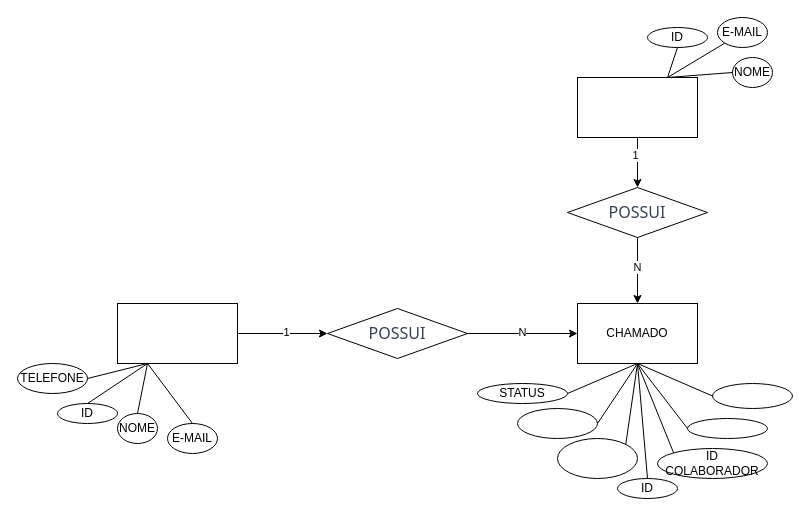
Image size: 810x516. Some labels were removed from this diagram. The centre of each missing label's shape, as x and y in pixels:
"CLIENTE" goes at [177,333].
"COLABORADOR" goes at [637,107].
"CRITICIDADE" goes at [752,395].
"DATA ABERTURA" goes at [597,458].
"DESCRIÇÃO" goes at [557,423].
"ID CLIENTE" goes at [727,428].
